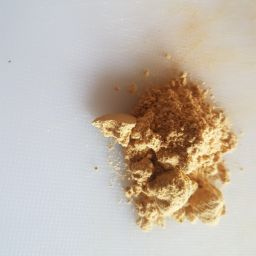Ginger powder: (71, 44, 245, 241), (89, 106, 228, 185), (169, 89, 227, 221), (128, 103, 192, 186)
